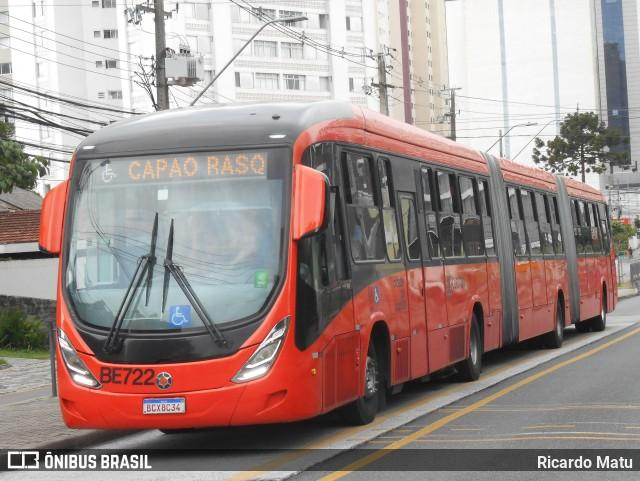CAPAO RASO: (119, 149, 270, 187)
